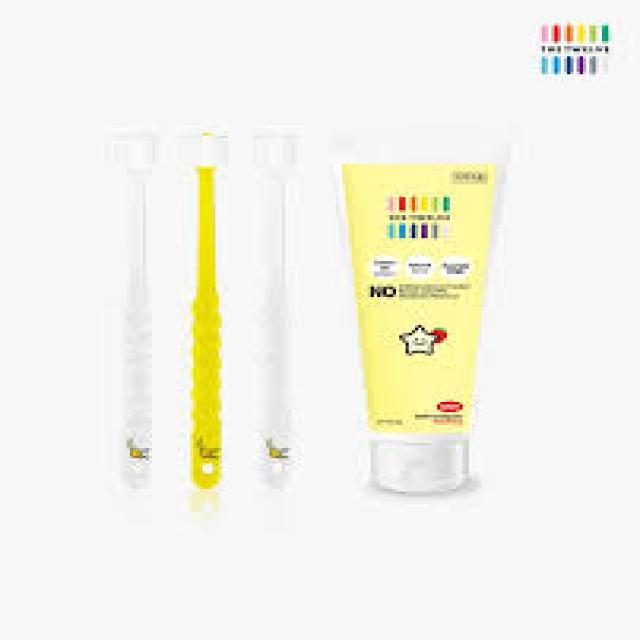toothpaste: (326, 148, 495, 498)
